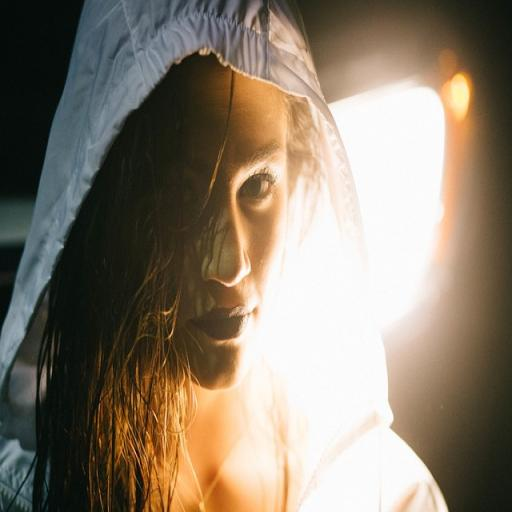lipstick: (192, 307, 250, 340)
